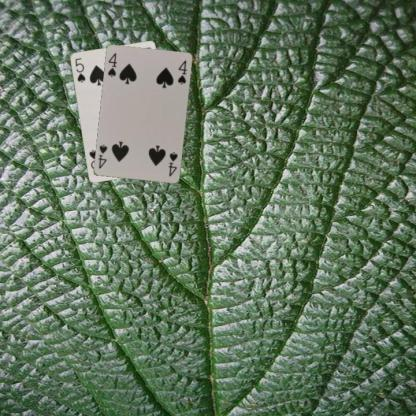4s: (166, 150, 180, 178), (105, 51, 119, 78)
5s: (72, 56, 86, 83)
